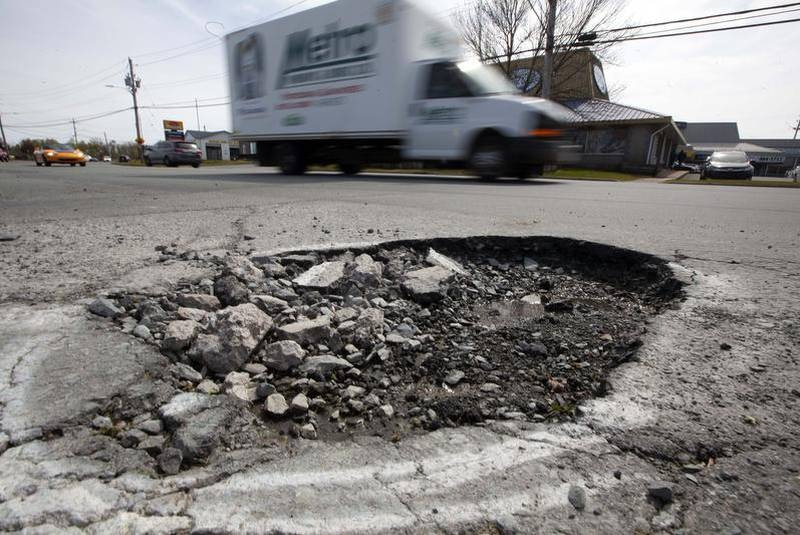pothole: (83, 195, 721, 477)
